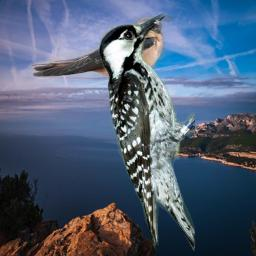Swallow: (30, 15, 165, 88)
Woodpecker: (98, 13, 195, 251)
